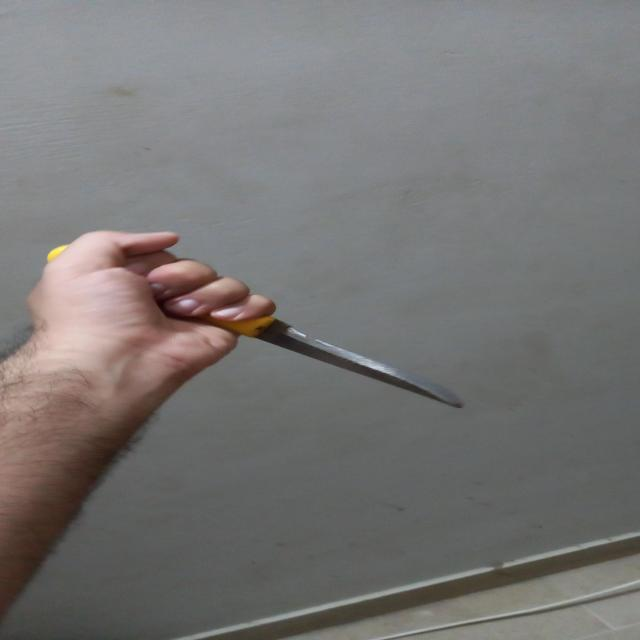Knife: (47, 245, 464, 408)
Person: (0, 231, 275, 618)
